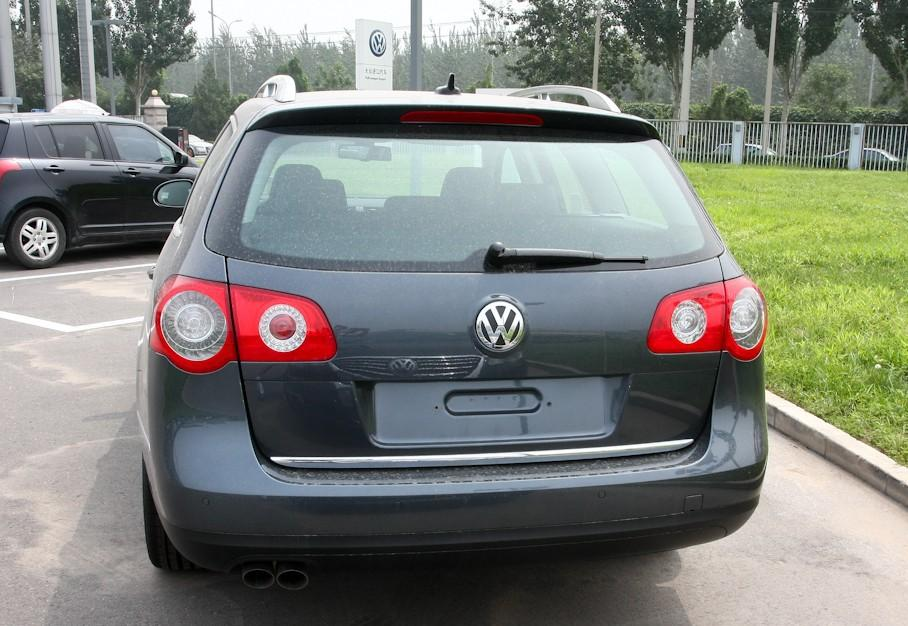Wagon: (132, 89, 770, 593)
